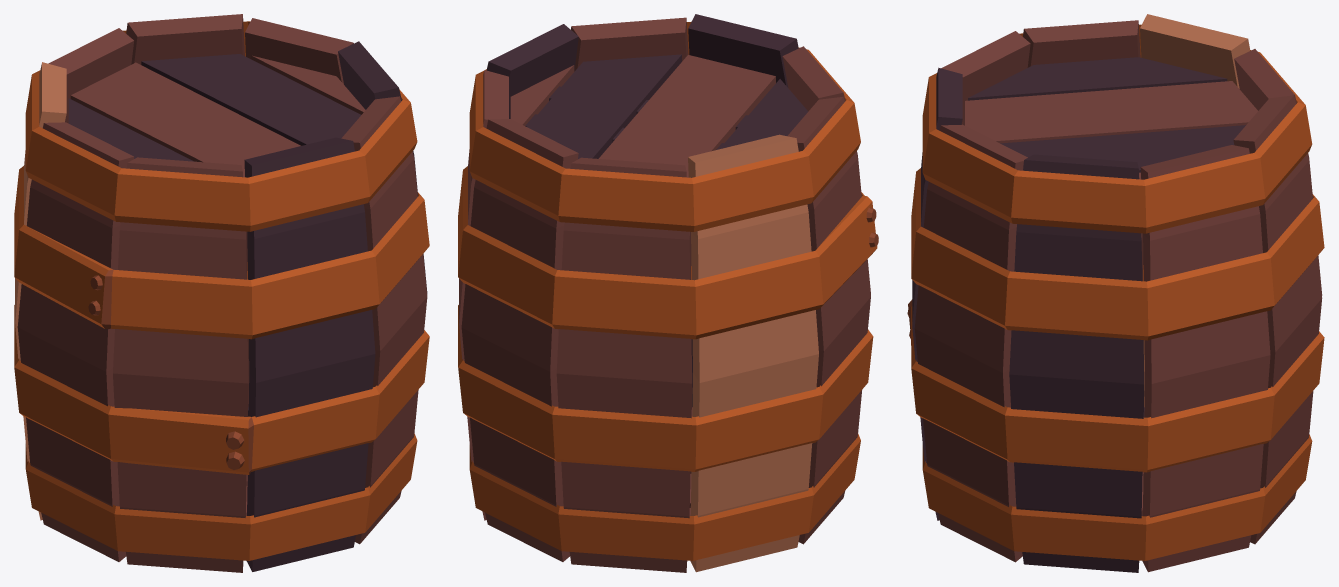
File: Barrel 1_10.fbx
The picture shows the model from 3 angles, left to right: view 1: azimuth 30°, elevation 25°; view 2: azimuth 150°, elevation 25°; view 3: azimuth 270°, elevation 25°; orthographic projection.
Visible parts, largest first — view 1: Barrel 1_10; view 2: Barrel 1_10; view 3: Barrel 1_10.
Part boxes in pixels (x1,y1,x2,y2): Barrel 1_10: (14,14,429,572); Barrel 1_10: (458,14,878,572); Barrel 1_10: (907,14,1324,572).
Size of the model in its own units: 84.55 by 90.45 by 84.04.
